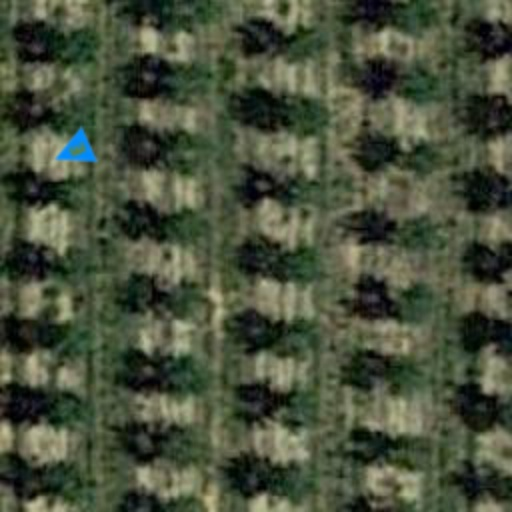triangle: (46, 126, 98, 178)
